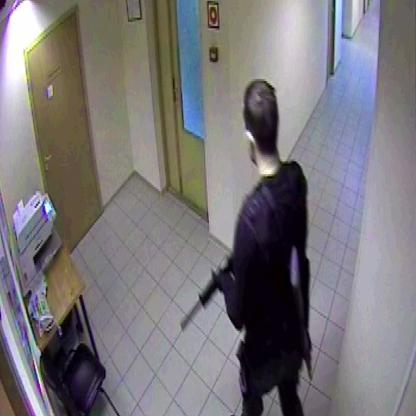al: (180, 252, 238, 343)
